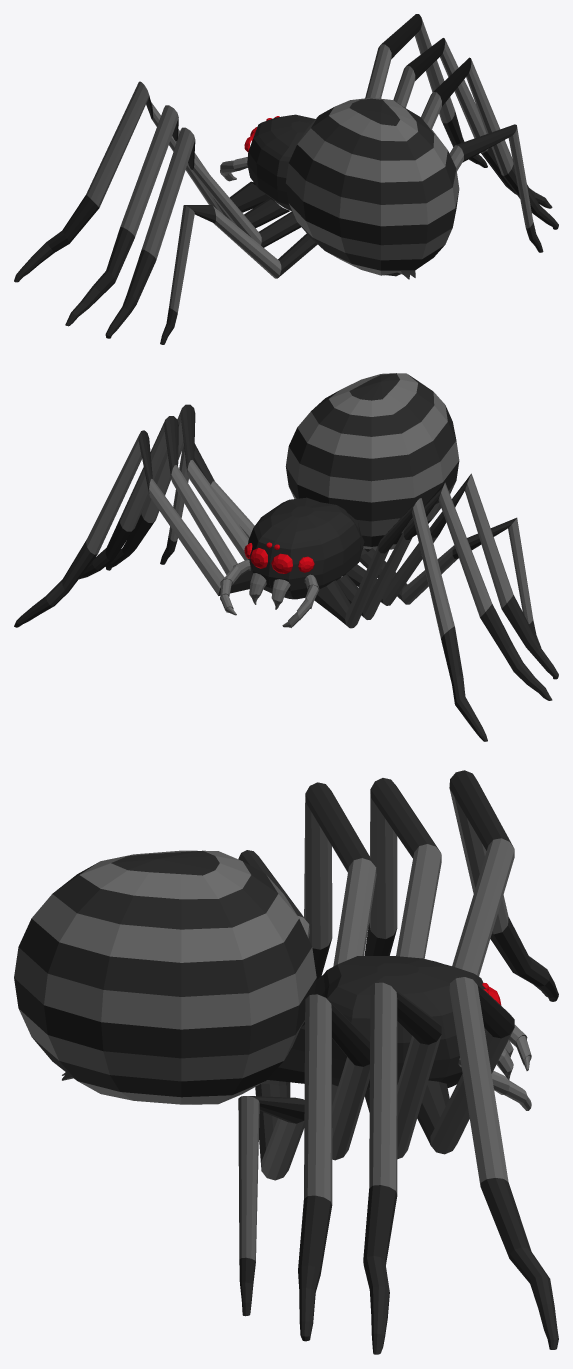
File: spider 1.fbx
3 renders of one model, top to bottom at view 1: azimuth 30°, elevation 25°; view 2: azimuth 150°, elevation 25°; view 3: azimuth 270°, elevation 25°, orthographic. The views are drawn at different scales.
Visible parts, largest first — view 1: Ara_a; view 2: Ara_a; view 3: Ara_a.
Part boxes in pixels (box(x1,y1,x2,y2)): Ara_a: box(14, 14, 558, 344); Ara_a: box(14, 373, 558, 741); Ara_a: box(14, 770, 558, 1354).
Bounding box in the file's own units: 5.89 × 2.4 × 3.75.
